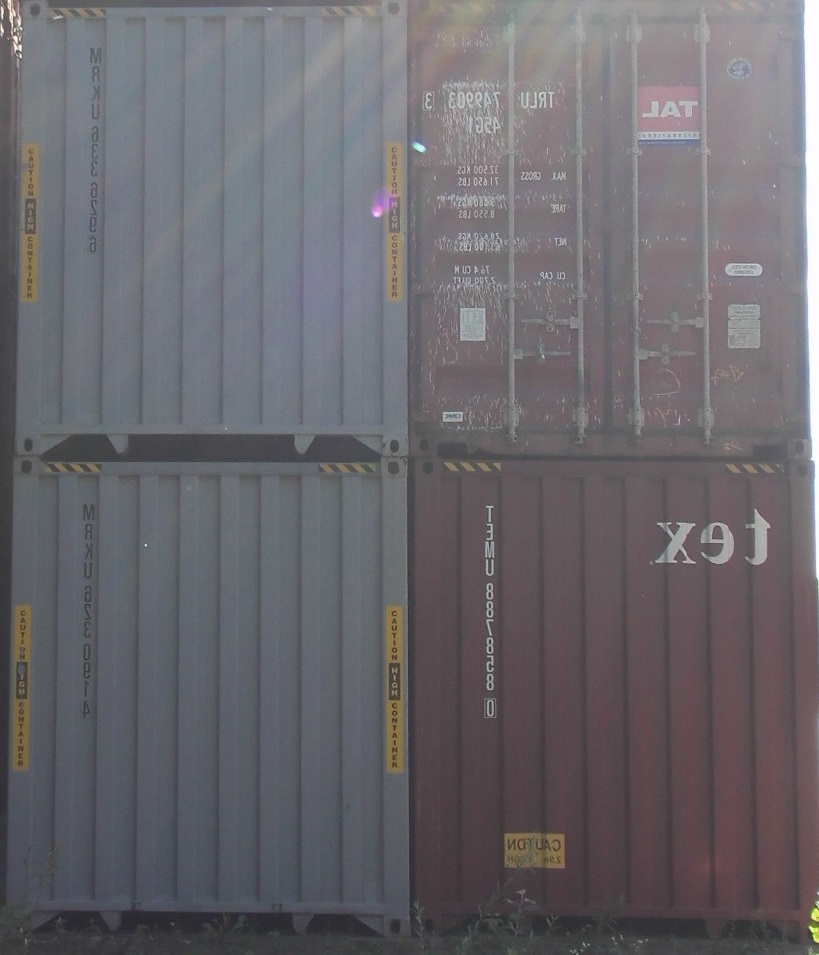container_door: (407, 1, 805, 457)
container_no_door: (409, 463, 819, 930), (13, 455, 410, 937), (15, 2, 402, 453)
